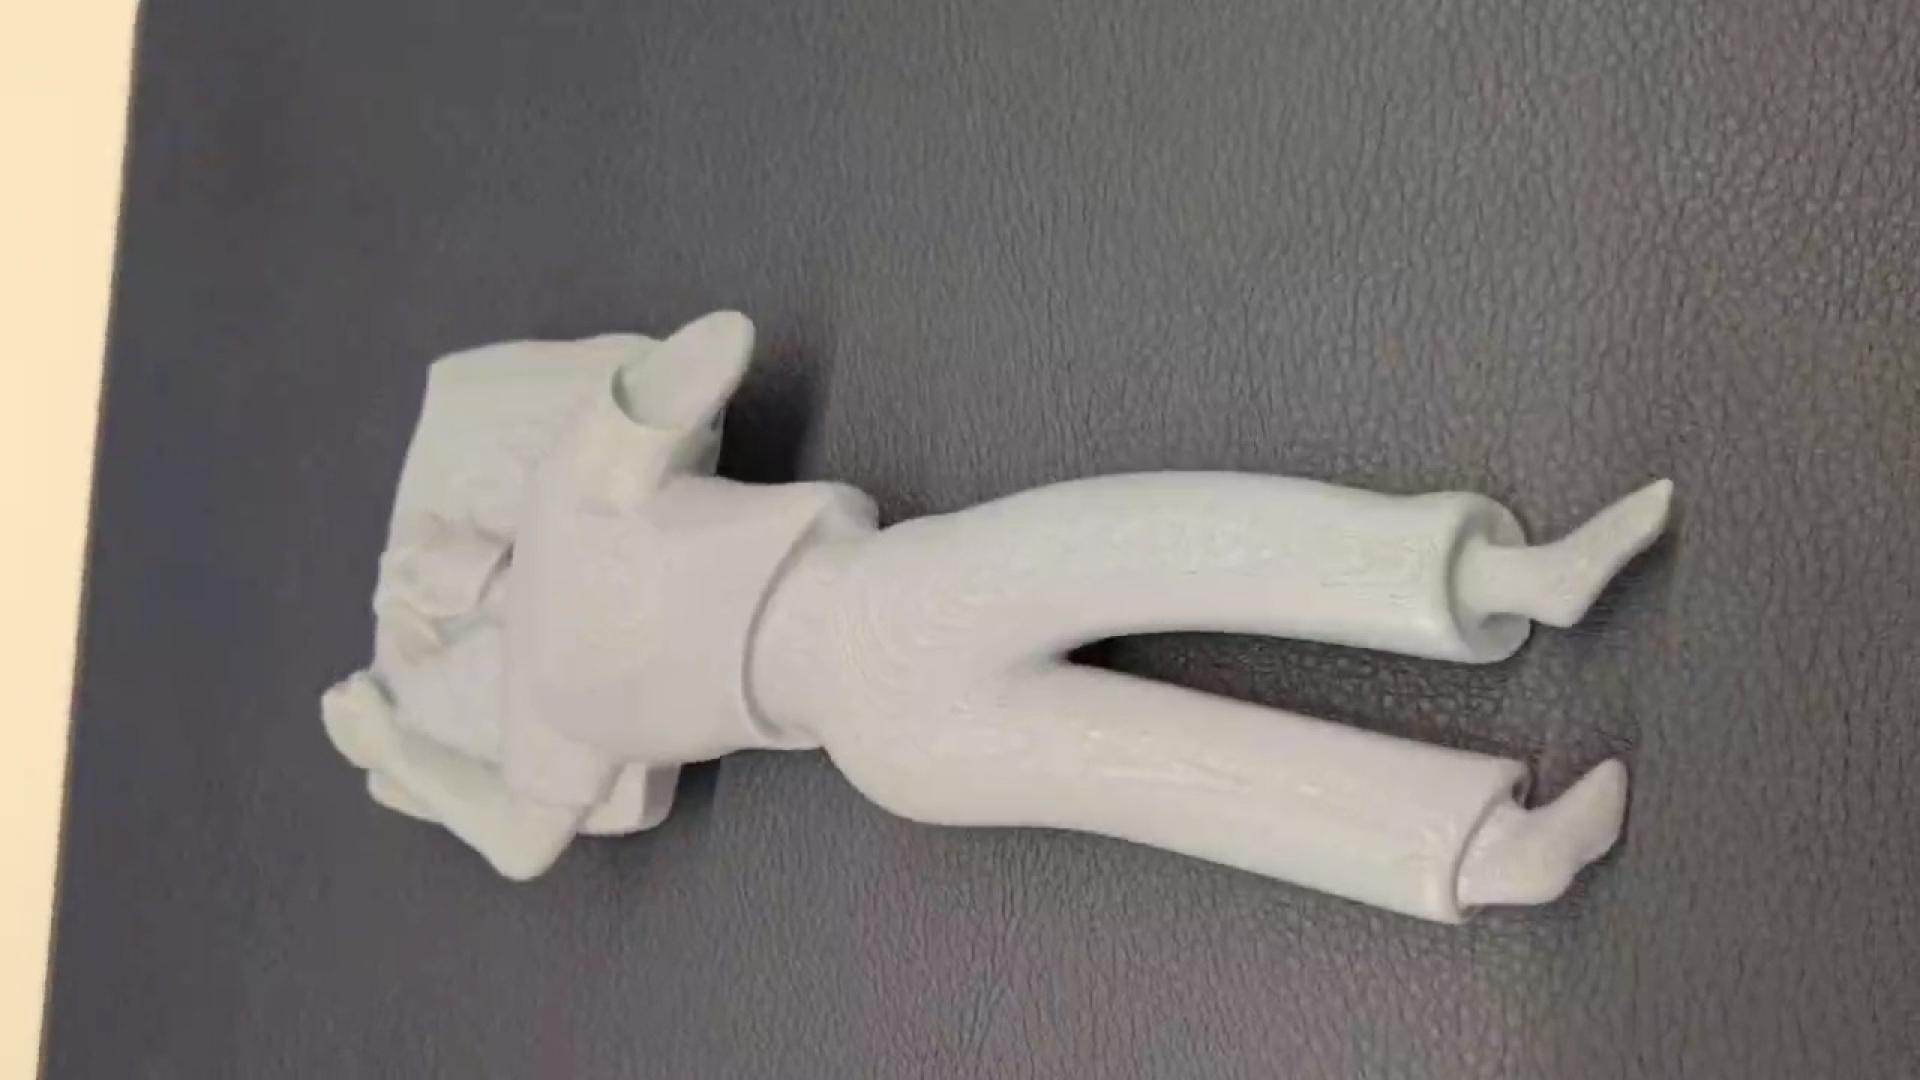Bad-style: (324, 297, 1671, 910)
